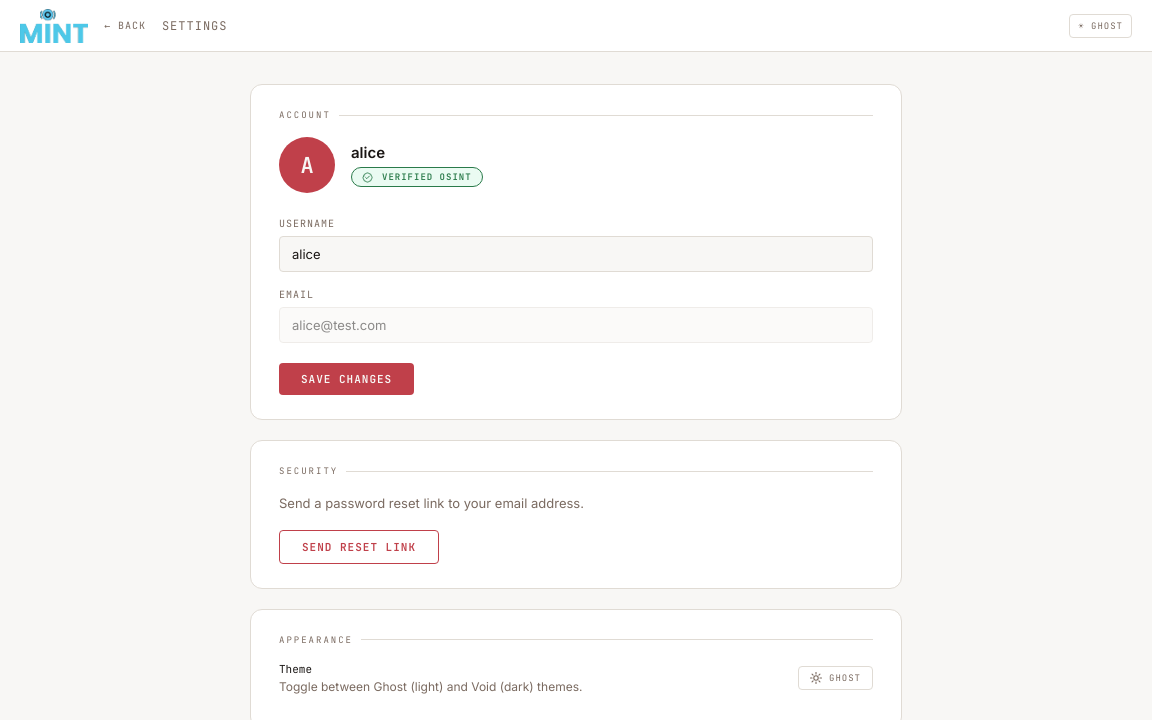
Test: SettingsPage › shows Saved! confirmation after successful save
Click the button "SAVE CHANGES": point(347, 379) left=279, top=363, right=414, bottom=395
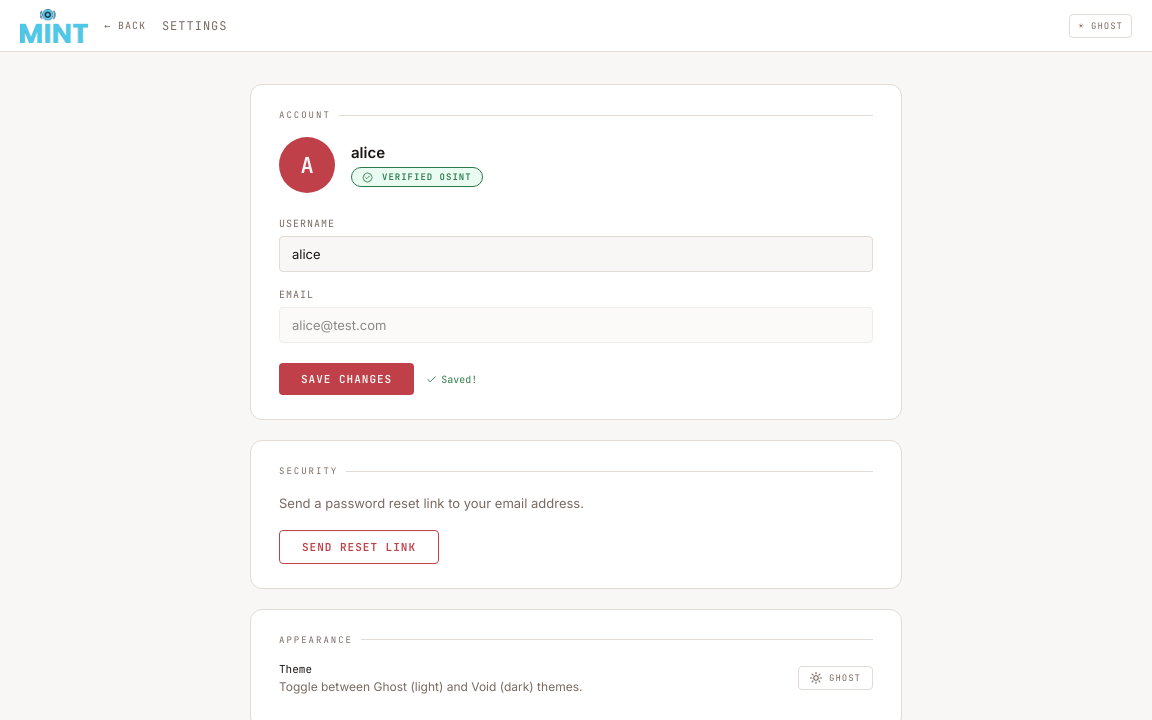
Result: the text "Saved!" is shown at left=426, top=372, right=477, bottom=386
